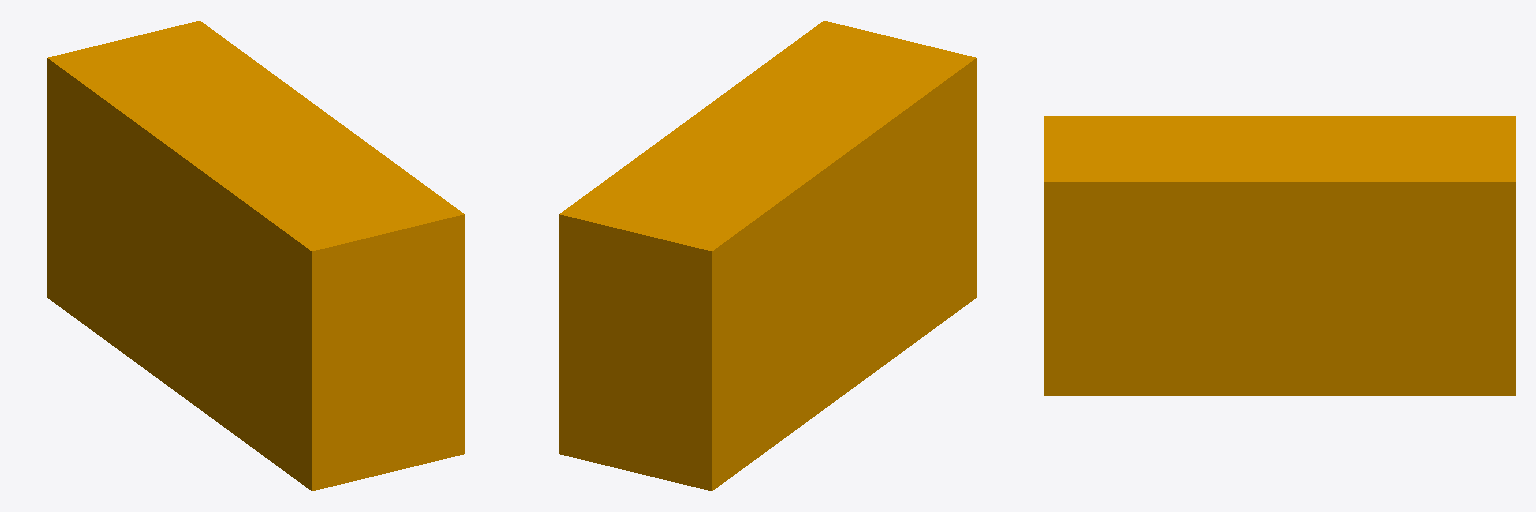
robot.urdf — my_object:
<?xml version="1.0" ?> 
<robot name="my_object">
  <link name="base_link">
  <inertial>
    <mass value="0.001" />
    <origin xyz="0 0 0" />
    <inertia  ixx="1.0" ixy="0.0"  ixz="0.0"  iyy="1.0"  iyz="0.0"  izz="1.0" />
  </inertial>
  <visual>
   <origin xyz="0 0 0.0" rpy="0 0 0" />
   <geometry>
     <mesh filename="package://cob_gazebo_objects/Media/models/cube.dae" scale="1 3 1.5" />
   </geometry>
  </visual>
  <collision>
   <origin xyz="0 0 0.0" rpy="0 0 0" />
   <geometry>
     <!--mesh filename="package://cob_gazebo_objects/Media/models/cube.dae" scale="1 3 1.5"-->
   </geometry>
  </collision>     
  </link>

<gazebo>
	<static>true</static>
</gazebo>
</robot>

--- Render facts (derived) ---
3 views of the same robot in one strip: view 1: azimuth 30°, elevation 25°; view 2: azimuth 150°, elevation 25°; view 3: azimuth 270°, elevation 25° (orthographic).
Model my_object with 1 links and 0 joints (none), rooted at base_link, posed every joint at zero.
Visible links, largest first — view 1: base_link; view 2: base_link; view 3: base_link.
Link boxes in pixels (x1=…): base_link: x1=47, y1=21, x2=464, y2=490; base_link: x1=559, y1=21, x2=976, y2=490; base_link: x1=1044, y1=116, x2=1515, y2=395.
Bounding box of the posed robot: 2 × 6 × 3 m (x, y, z).
Meshes: 1 distinct files referenced, 1 mesh visuals loaded (1 Collada DAE).